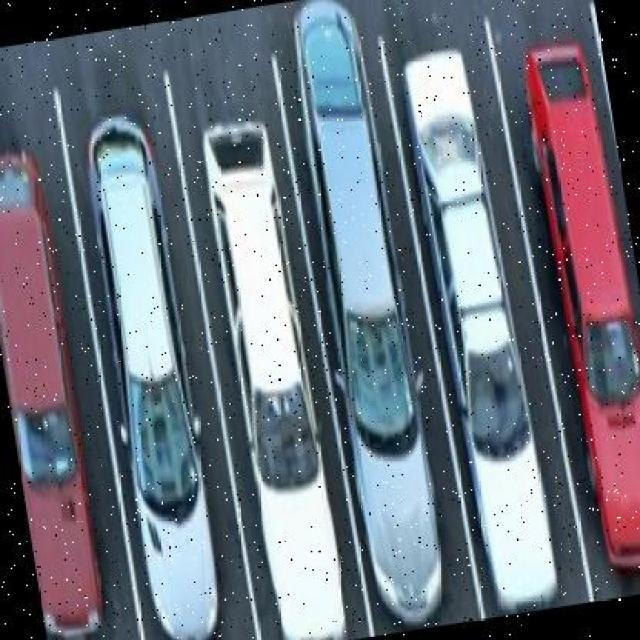Car: (91, 105, 247, 640), (415, 124, 573, 556), (297, 63, 437, 524), (215, 138, 349, 598), (533, 127, 640, 538), (1, 153, 104, 575)
